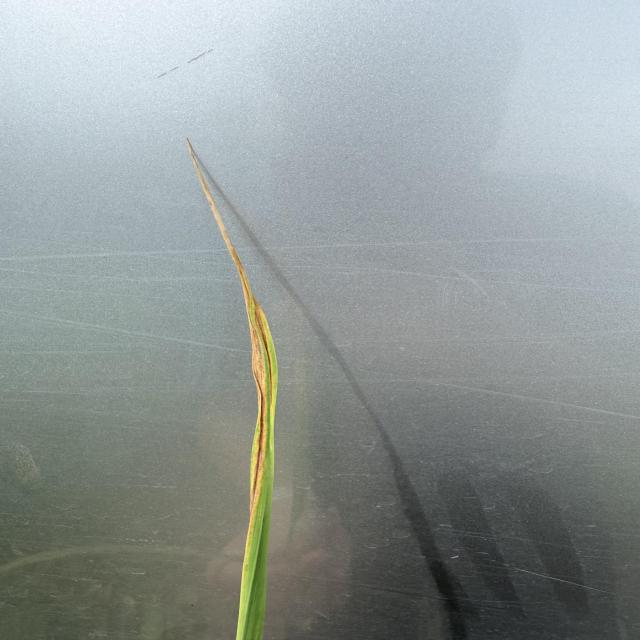Chay bia la: (187, 140, 273, 546)
